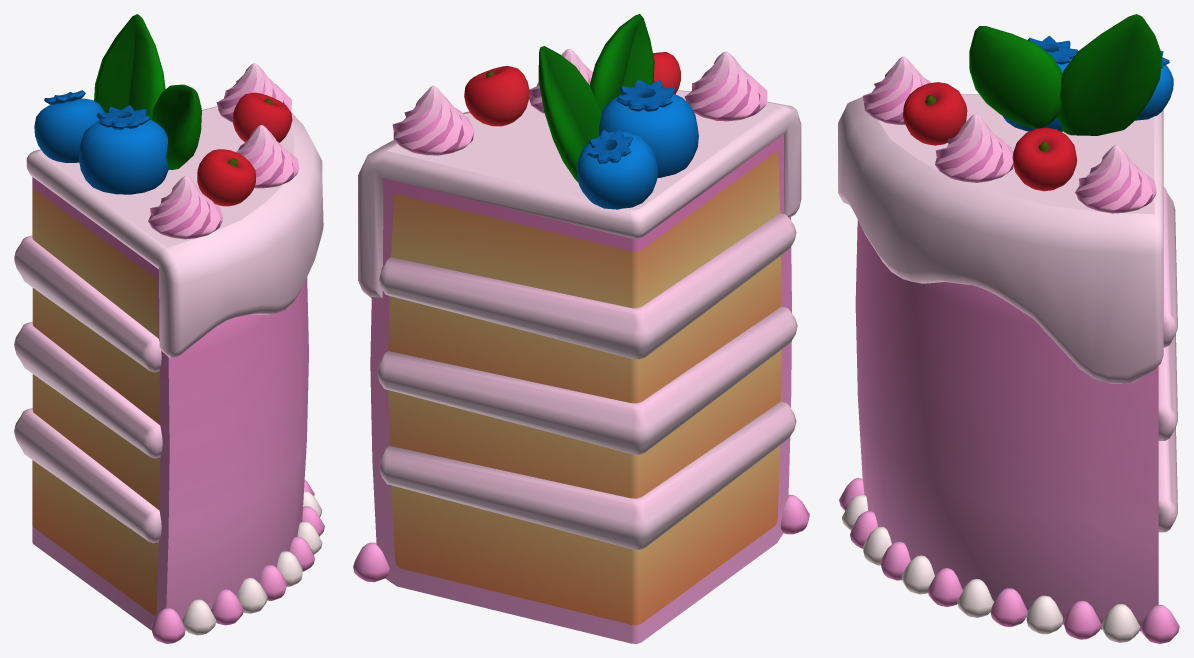
The model's file is Cake_Cherry_Slice_V2_00.fbx.
3 renders of one model, left to right at view 1: azimuth 30°, elevation 25°; view 2: azimuth 150°, elevation 25°; view 3: azimuth 270°, elevation 25°, orthographic. The views are drawn at different scales.
Visible parts, largest first — view 1: Cake_Cherry_Slice_V2_00; view 2: Cake_Cherry_Slice_V2_00; view 3: Cake_Cherry_Slice_V2_00.
Boxes of the visible parts, left/top/right/bottom form: Cake_Cherry_Slice_V2_00: left=14, top=14, right=324, bottom=643; Cake_Cherry_Slice_V2_00: left=353, top=14, right=809, bottom=643; Cake_Cherry_Slice_V2_00: left=838, top=14, right=1179, bottom=643.
Bounding box in the file's own units: 34.82 × 62.6 × 35.03.
